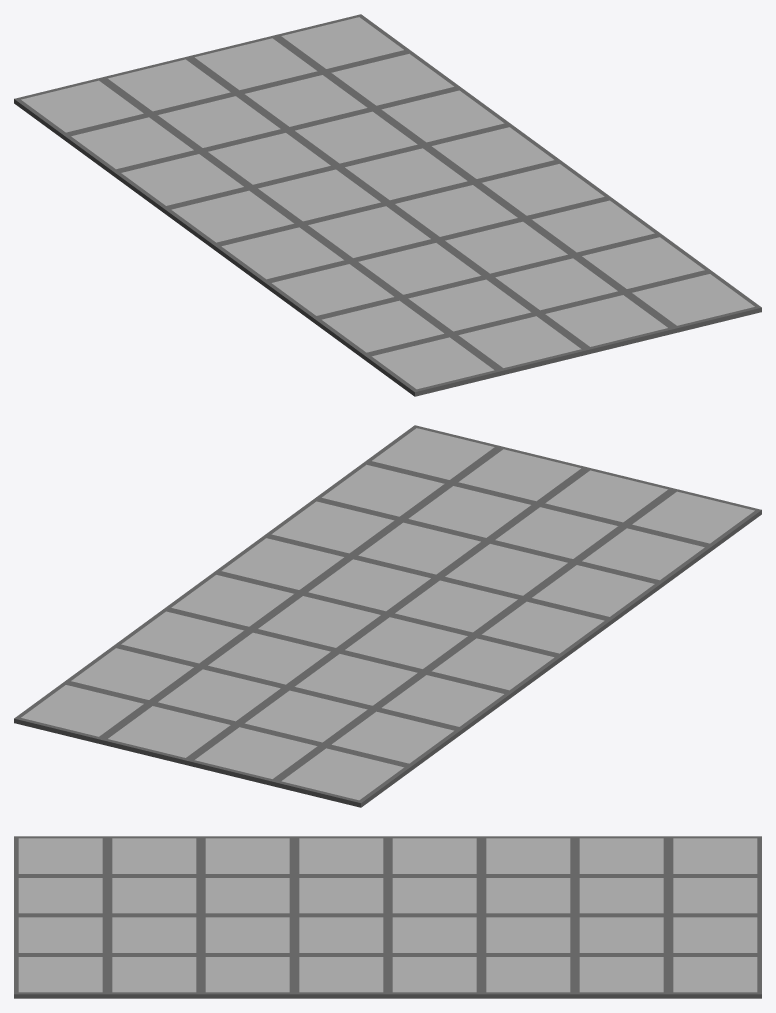
Rendered from ceiling_01_XL.dae.
The picture shows the model from 3 angles, top to bottom: view 1: azimuth 30°, elevation 25°; view 2: azimuth 150°, elevation 25°; view 3: azimuth 270°, elevation 25°; orthographic projection. The views are drawn at different scales.
Visible parts, largest first — view 1: Untitled; view 2: Untitled; view 3: Untitled.
Boxes of the visible parts, x1,y1,x2,y2 form: Untitled: [14, 14, 761, 396]; Untitled: [14, 425, 761, 807]; Untitled: [14, 836, 761, 998].
Bounding box in the file's own units: 2.4 × 4.8 × 0.03.
1 material, 1 textured.
